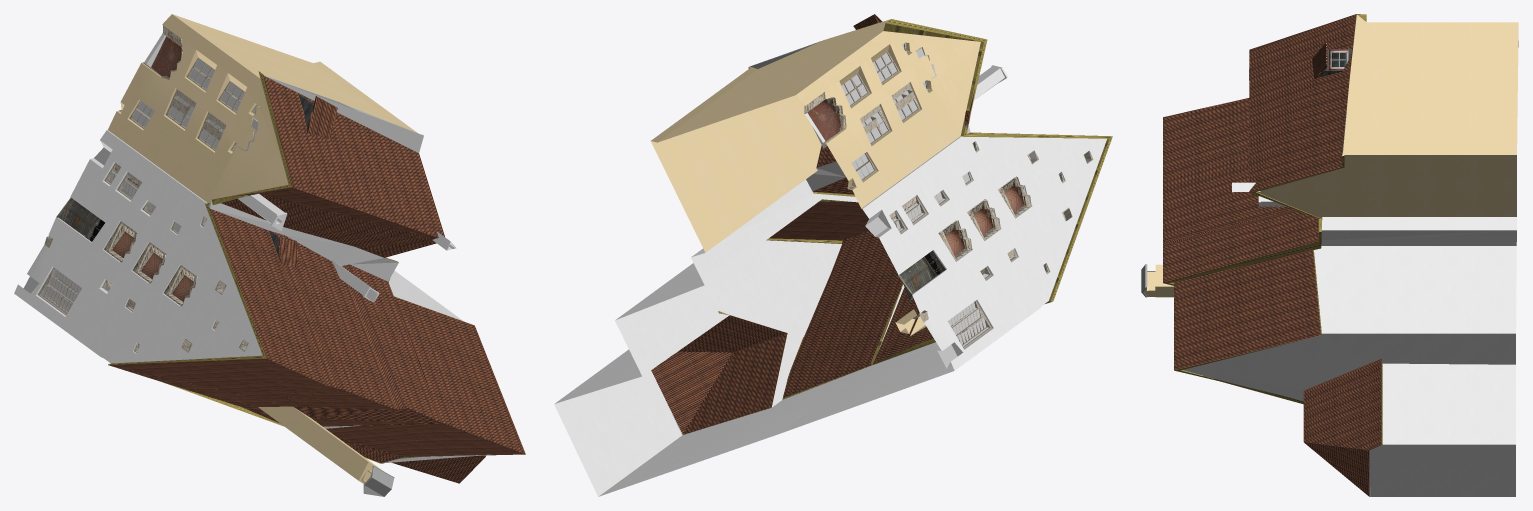
File: Lai_40_1-origo.obj
3 views of the same model, side by side, from view 1: azimuth 30°, elevation 25°; view 2: azimuth 150°, elevation 25°; view 3: azimuth 270°, elevation 25° (orthographic). The views are drawn at different scales.
Parts seen in each view (by area): view 1: Lai_40_1; view 2: Lai_40_1; view 3: Lai_40_1.
Boxes of the visible parts, <box> form: Lai_40_1: <box>14,14,525,496</box>; Lai_40_1: <box>554,14,1112,496</box>; Lai_40_1: <box>1141,14,1518,496</box>.
Size of the model in its own units: 25.81 by 28 by 24.08.
